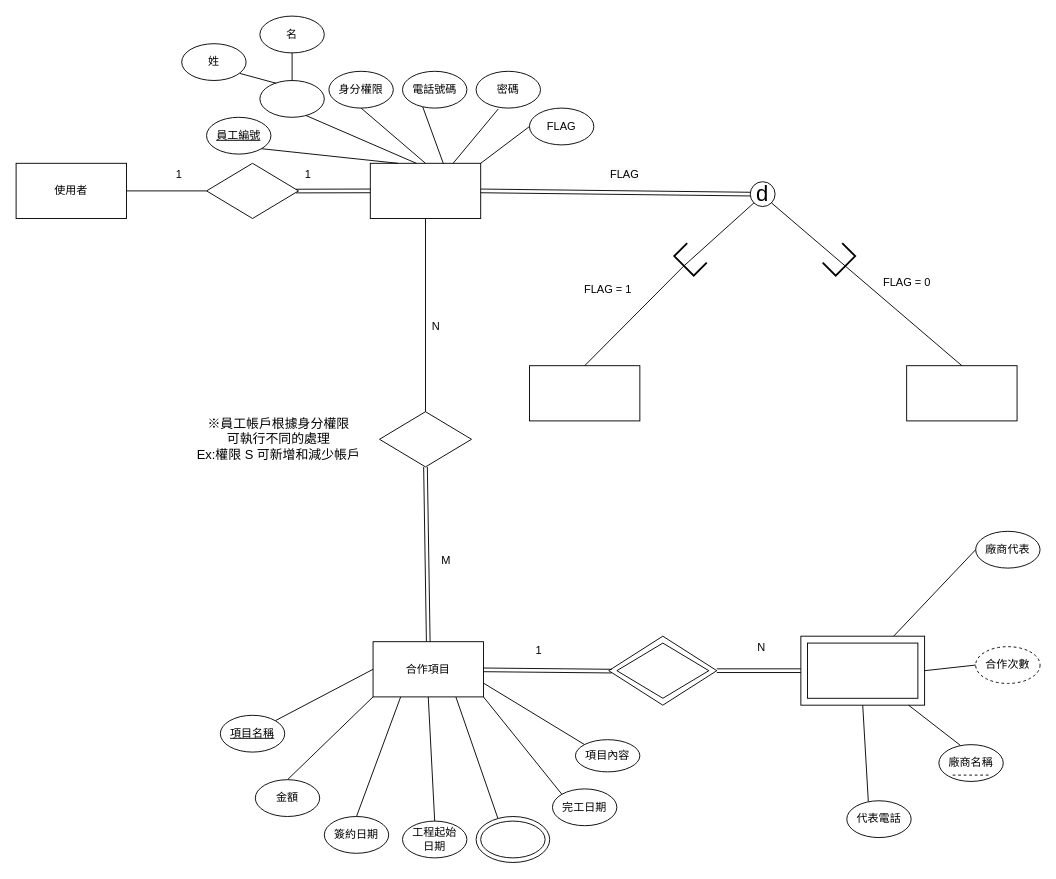
Some shapes in this 1056 by 879 pixel diagram are drawn without their labels. The shapes that lost their labels are listed below. From the top down, each one's box as (x1, y1, x2, y2) in pixels, then its label:
(259, 80, 324, 117): 姓名
(206, 162, 299, 218): 登入
(369, 162, 481, 218): 員工帳戶
(529, 365, 640, 421): 負責人
(906, 365, 1017, 421): 一般員工
(379, 411, 472, 467): 處理
(616, 642, 709, 698): 合作
(807, 642, 918, 698): 廠商
(480, 820, 545, 858): 檢測日期
